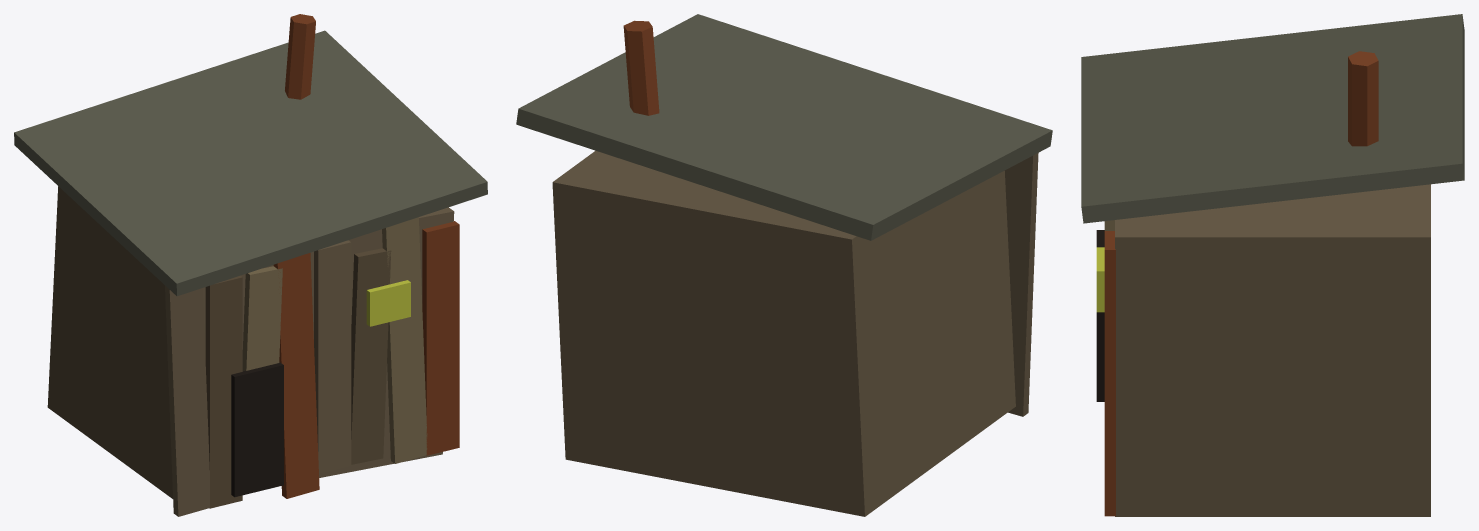
Rendered from ratfolk_house_b_broken.glb.
The picture shows the model from 3 angles, left to right: view 1: azimuth 30°, elevation 25°; view 2: azimuth 150°, elevation 25°; view 3: azimuth 270°, elevation 25°; orthographic projection. The views are drawn at different scales.
Visible parts, largest first — view 1: ratfolk_house_b_piece2, ratfolk_house_b_piece4, ratfolk_house_b_piece1, ratfolk_house_b_piece5, ratfolk_house_b_piece8, ratfolk_house_b_piece6, ratfolk_house_b_piece0, ratfolk_house_b_piece9, ratfolk_house_b_piece3; view 2: ratfolk_house_b_piece9, ratfolk_house_b_piece2, ratfolk_house_b_piece1, ratfolk_house_b_piece3, ratfolk_house_b_piece0, ratfolk_house_b_piece5, ratfolk_house_b_piece6, ratfolk_house_b_piece7, ratfolk_house_b_piece8; view 3: ratfolk_house_b_piece4, ratfolk_house_b_piece1, ratfolk_house_b_piece7, ratfolk_house_b_piece2, ratfolk_house_b_piece5, ratfolk_house_b_piece8, ratfolk_house_b_piece0, ratfolk_house_b_piece3.
Part boxes in pixels (x1,y1,x2,y2): ratfolk_house_b_piece2: (14, 97, 328, 447); ratfolk_house_b_piece4: (218, 269, 459, 506); ratfolk_house_b_piece1: (123, 14, 477, 172); ratfolk_house_b_piece5: (132, 14, 458, 293); ratfolk_house_b_piece8: (284, 166, 487, 388); ratfolk_house_b_piece6: (71, 222, 312, 461); ratfolk_house_b_piece0: (104, 388, 285, 516); ratfolk_house_b_piece9: (47, 301, 133, 448); ratfolk_house_b_piece3: (52, 148, 431, 359); ratfolk_house_b_piece9: (575, 221, 954, 516); ratfolk_house_b_piece2: (748, 85, 1052, 333); ratfolk_house_b_piece1: (516, 20, 786, 321); ratfolk_house_b_piece3: (701, 40, 920, 394); ratfolk_house_b_piece0: (562, 341, 1030, 483); ratfolk_house_b_piece5: (626, 20, 915, 179); ratfolk_house_b_piece6: (871, 281, 1031, 373); ratfolk_house_b_piece7: (552, 187, 602, 395); ratfolk_house_b_piece8: (687, 14, 733, 47); ratfolk_house_b_piece4: (1096, 280, 1370, 516); ratfolk_house_b_piece1: (1104, 61, 1464, 290); ratfolk_house_b_piece7: (1229, 242, 1430, 516); ratfolk_house_b_piece2: (1081, 14, 1464, 245); ratfolk_house_b_piece5: (1081, 51, 1450, 192); ratfolk_house_b_piece8: (1081, 175, 1178, 303); ratfolk_house_b_piece0: (1382, 454, 1430, 516); ratfolk_house_b_piece3: (1136, 136, 1250, 222).
Size of the model in its own units: 1.92 by 2.16 by 1.7.
